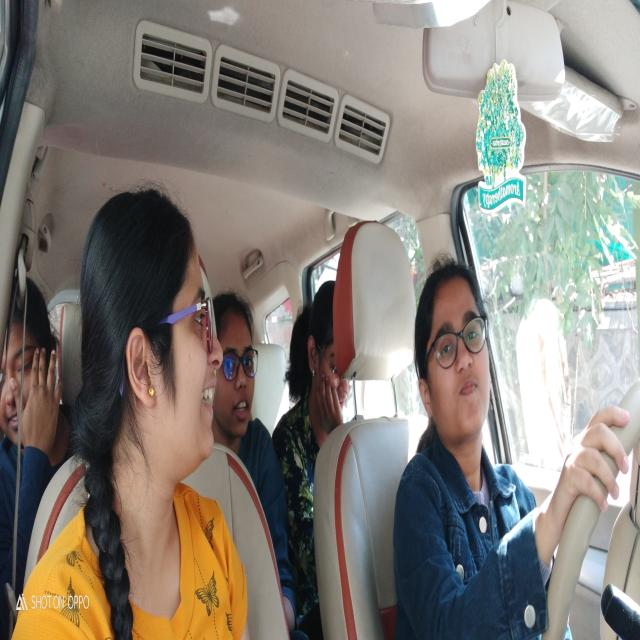LeftRight: (411, 260, 496, 460)
person: (80, 187, 225, 458), (2, 280, 61, 453), (288, 278, 347, 432), (218, 283, 262, 449)
talking: (197, 375, 218, 415)
